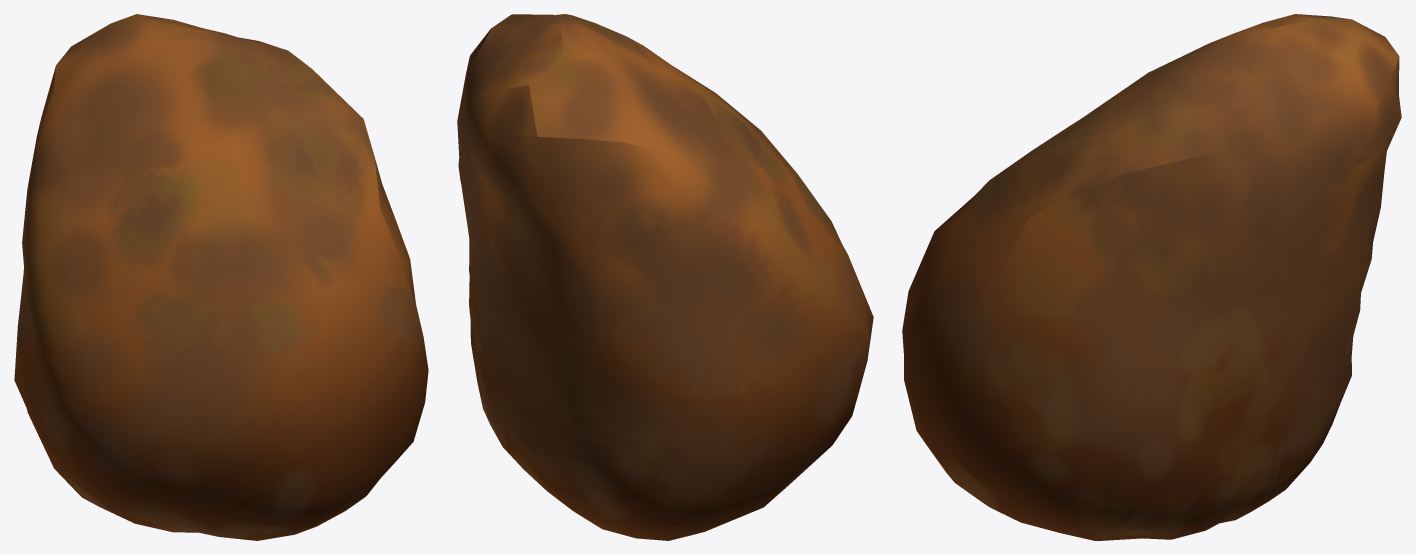
File: Roca_espacial3.fbx
The picture shows the model from 3 angles, left to right: view 1: azimuth 30°, elevation 25°; view 2: azimuth 150°, elevation 25°; view 3: azimuth 270°, elevation 25°; orthographic projection. The views are drawn at different scales.
Visible parts, largest first — view 1: roca3_Low; view 2: roca3_Low; view 3: roca3_Low.
Boxes of the visible parts, box(x1,y1,x2,y2) form: roca3_Low: box(14, 14, 428, 540); roca3_Low: box(457, 14, 873, 540); roca3_Low: box(902, 14, 1401, 540).
Bounding box in the file's own units: 0.8209 × 1.07 × 0.9431.
